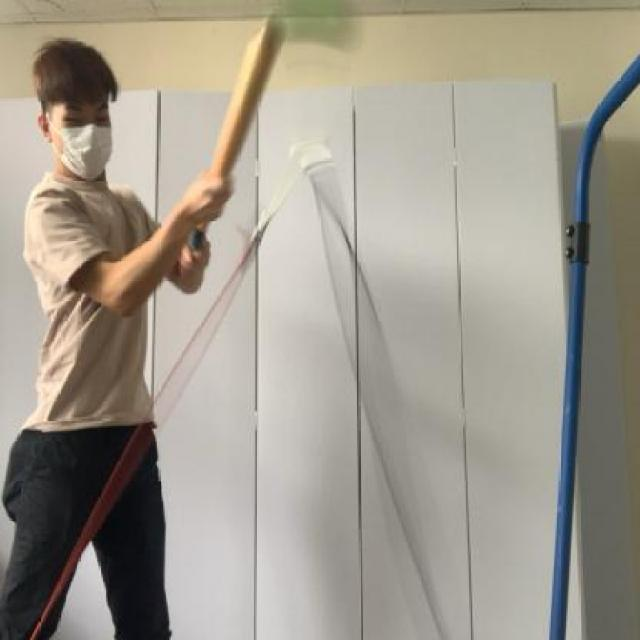baseball: (254, 0, 363, 52)
